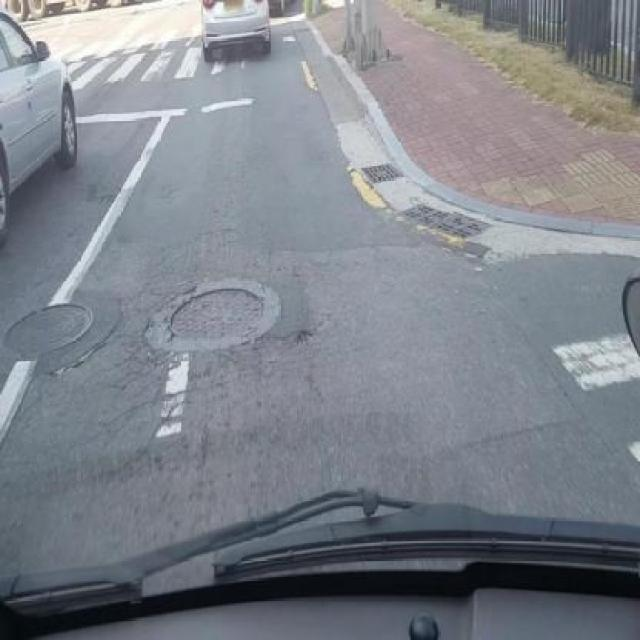Manhole: (142, 274, 266, 346), (0, 297, 105, 360), (397, 200, 497, 246), (356, 156, 410, 190)
Pothole: (288, 322, 322, 349)
